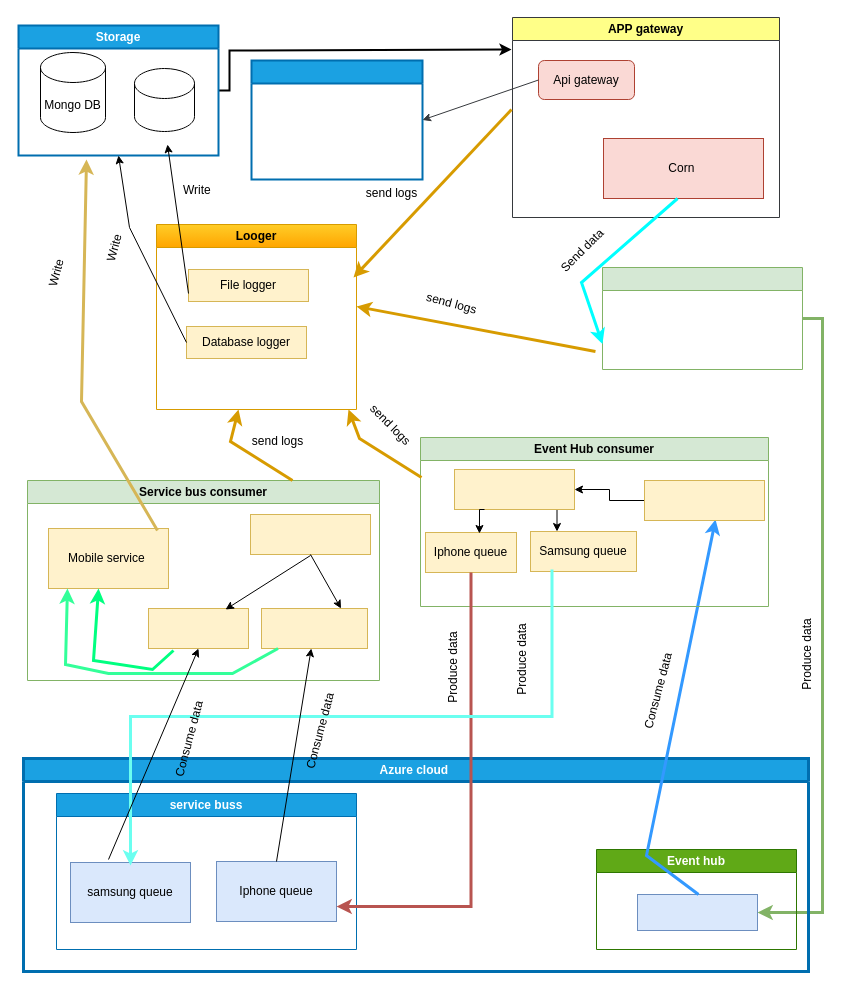
Image size: 849x990. Some labels were removed from this diagram. Here are the shapes that lost their labels. From the top down, the centre of each, then its label:
At pixel 164 100: "File".
At pixel 336 119: "Front end".
At pixel 702 318: "Event hub producer".
At pixel 514 489: "Message Bus gateWay".
At pixel 704 500: "Consumer service".
At pixel 310 534: "Service bus consumer Gateway".
At pixel 198 628: "iphone queue consumer".
At pixel 314 628: "Samsung queue consumer".
At pixel 697 912: "default group".
